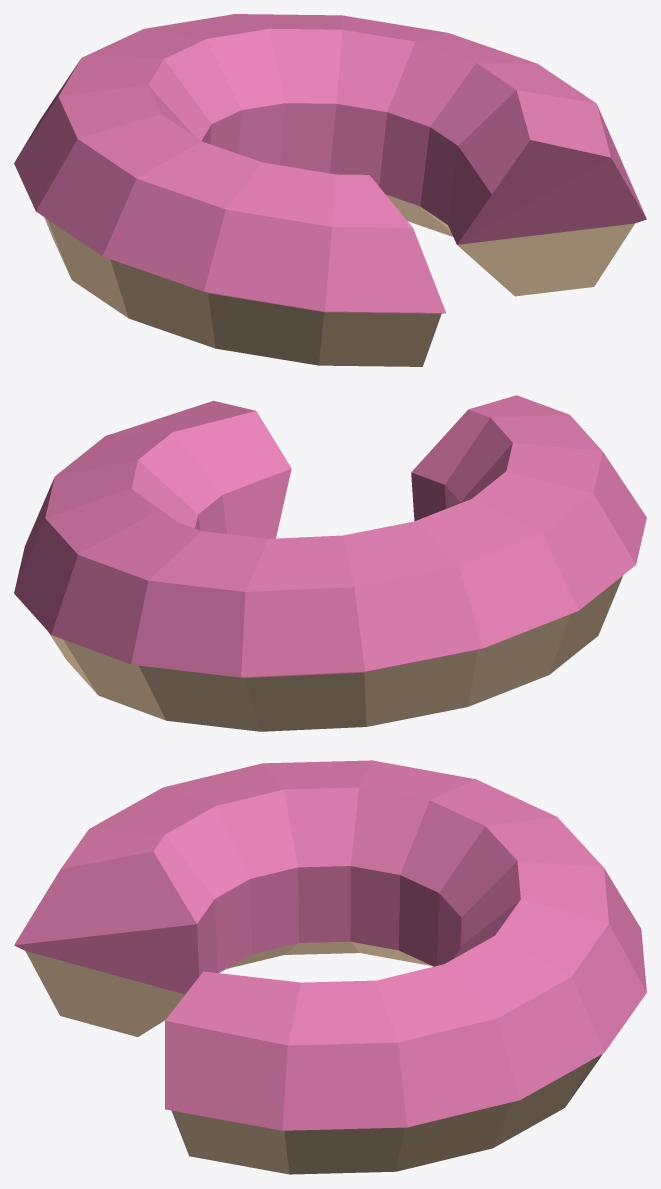
The model's file is donut2.fbx.
3 views of the same model, one above another, from view 1: azimuth 30°, elevation 25°; view 2: azimuth 150°, elevation 25°; view 3: azimuth 270°, elevation 25° (orthographic).
Visible parts, largest first — view 1: donut2; view 2: donut2; view 3: donut2.
Boxes of the visible parts, x1,y1,x2,y2 form: donut2: (14, 14, 646, 366); donut2: (14, 395, 646, 731); donut2: (14, 760, 646, 1174).
Size of the model in its own units: 11.9 by 4.37 by 11.96.
